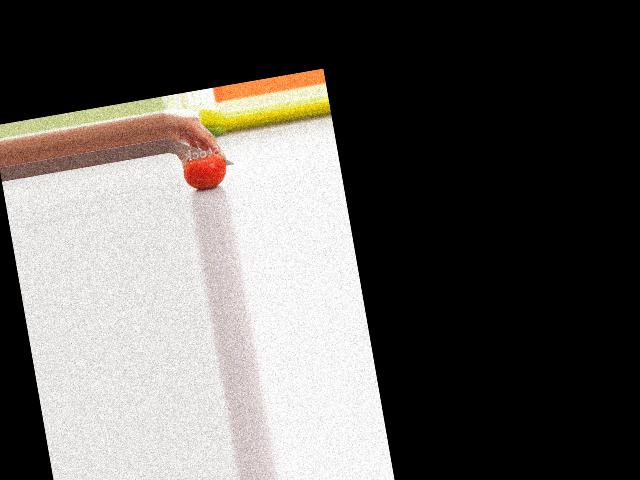tomato: (180, 152, 229, 192)
